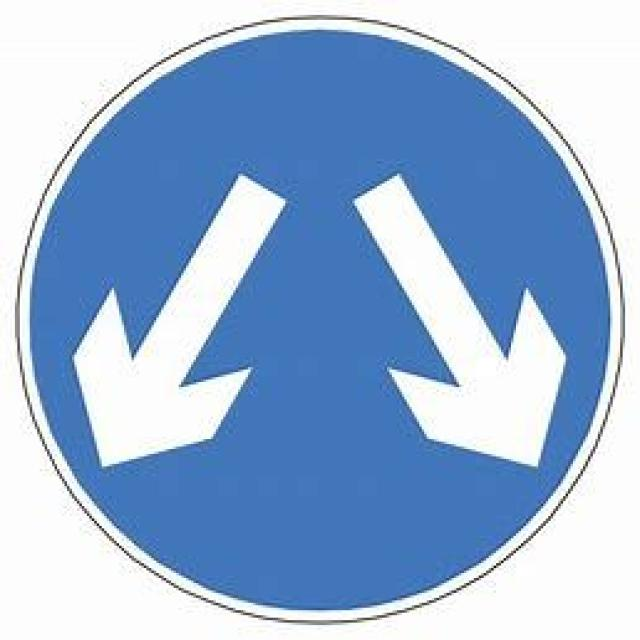no_overtaking: (30, 27, 605, 608)
